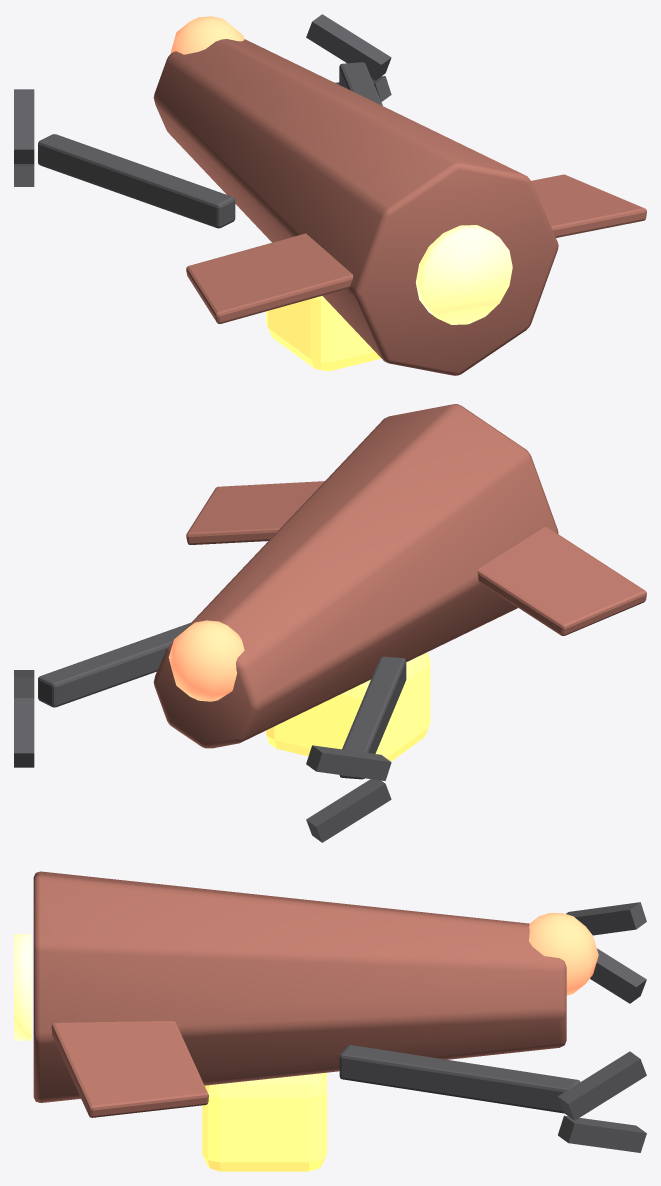
Rendered from dieb.glb.
The picture shows the model from 3 angles, top to bottom: view 1: azimuth 30°, elevation 25°; view 2: azimuth 150°, elevation 25°; view 3: azimuth 270°, elevation 25°; orthographic projection. The views are drawn at different scales.
Parts seen in each view (by area): view 1: Rumpf.003, Finne-1, Duese.001, Arm-1.001, Beutel, Finne1, Klaue1a, Auge.007, Klaue-1a, Arm1.001; view 2: Rumpf.003, Finne-1, Beutel, Finne1, Arm1.001, Auge.007, Arm-1.001, Klaue-1b, Klaue-1a, Klaue1b; view 3: Rumpf.003, Finne1, Beutel, Arm1.001, Auge.007, Klaue1a, Klaue1b, Duese.001, Klaue-1a, Klaue-1b.
Boxes of the visible parts, x1,y1,x2,y2 form: Rumpf.003: (153, 39, 558, 375); Finne-1: (186, 233, 353, 323); Duese.001: (415, 225, 512, 324); Arm-1.001: (38, 134, 235, 228); Beutel: (266, 296, 381, 370); Finne1: (531, 174, 646, 237); Klaue1a: (306, 14, 391, 80); Auge.007: (170, 16, 244, 54); Klaue-1a: (14, 89, 34, 163); Arm1.001: (339, 62, 382, 105); Rumpf.003: (153, 404, 558, 748); Finne-1: (477, 526, 646, 635); Beutel: (266, 652, 430, 761); Finne1: (186, 481, 324, 544); Arm1.001: (38, 623, 190, 707); Auge.007: (168, 620, 244, 701); Arm-1.001: (339, 656, 406, 779); Klaue-1b: (306, 779, 391, 842); Klaue-1a: (306, 745, 391, 780); Klaue1b: (14, 698, 34, 767); Rumpf.003: (33, 871, 566, 1102); Finne1: (51, 1021, 208, 1117); Beutel: (202, 1072, 326, 1171); Arm1.001: (339, 1045, 580, 1113); Auge.007: (529, 913, 598, 995); Klaue1a: (558, 1051, 646, 1120); Klaue1b: (558, 1115, 646, 1152); Duese.001: (14, 934, 31, 1040); Klaue-1a: (566, 902, 646, 935); Klaue-1b: (590, 948, 646, 1003).
Size of the model in its own units: 1.46 by 0.8432 by 1.78.
